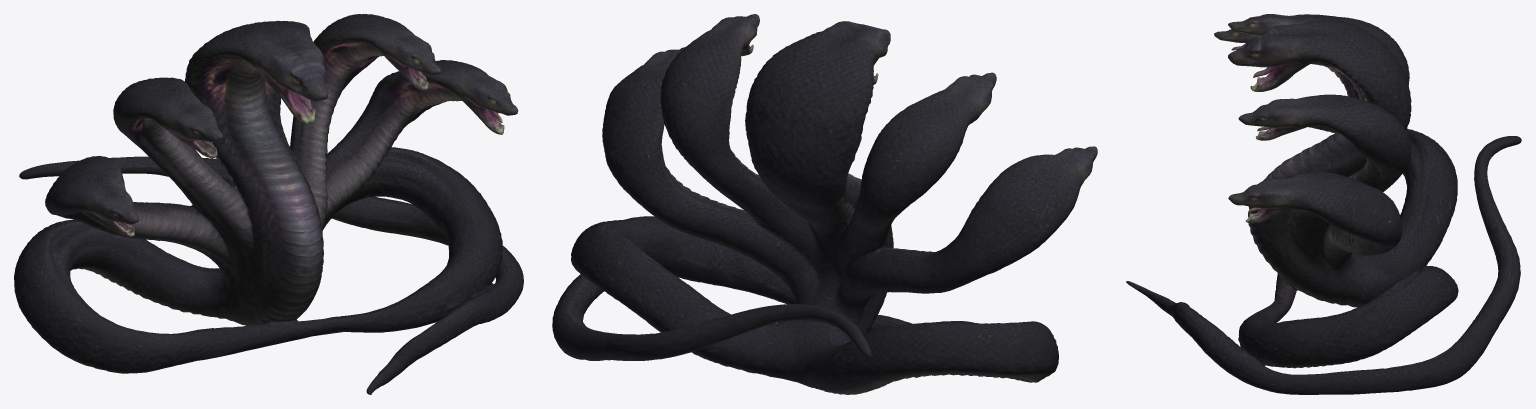
The model's file is Kaliya_Final.glb.
3 views of the same model, side by side, from view 1: azimuth 30°, elevation 25°; view 2: azimuth 150°, elevation 25°; view 3: azimuth 270°, elevation 25° (orthographic). The views are drawn at different scales.
Parts seen in each view (by area): view 1: Mesh1.0; view 2: Mesh1.0; view 3: Mesh1.0.
Boxes of the visible parts, x1,y1,x2,y2 form: Mesh1.0: (14,14,523,394); Mesh1.0: (552,14,1097,394); Mesh1.0: (1126,14,1521,394).
Size of the model in its own units: 1.91 by 1.18 by 1.56.
1 material, 1 textured.
